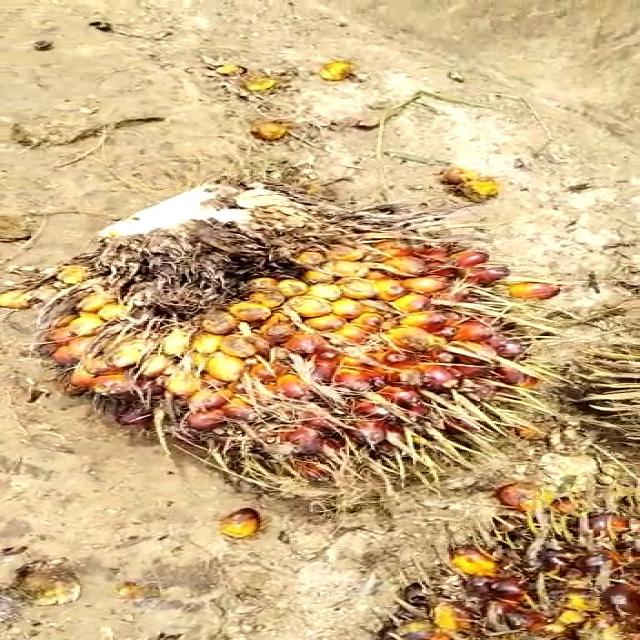palm oil: (41, 197, 575, 500)
